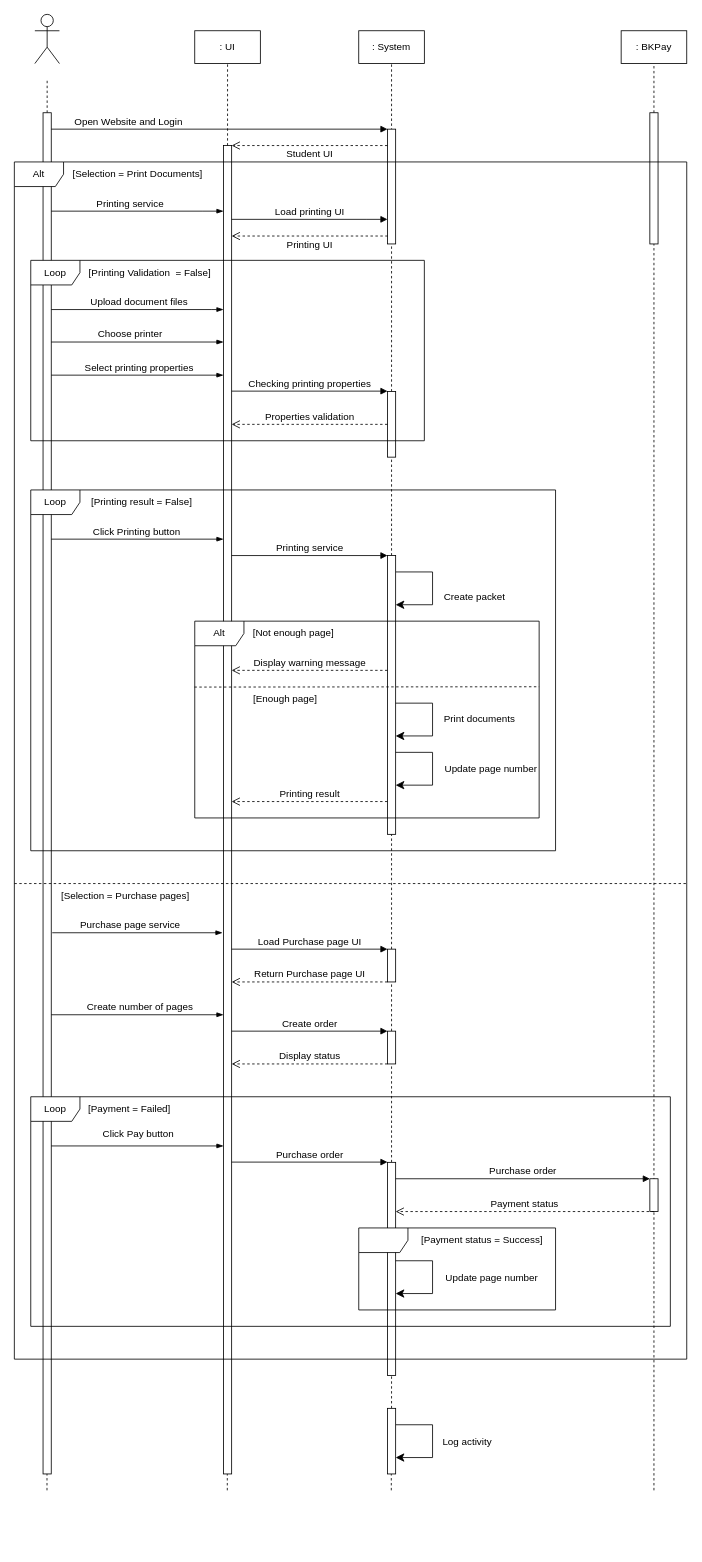
Some shapes in this 702 by 1562 pixel diagram are drawn without their labels. Here are the shapes that lost their labels. From the top down, the box of each, then its label:
(34, 14, 59, 64): Student User
(358, 1227, 556, 1310): Opt
